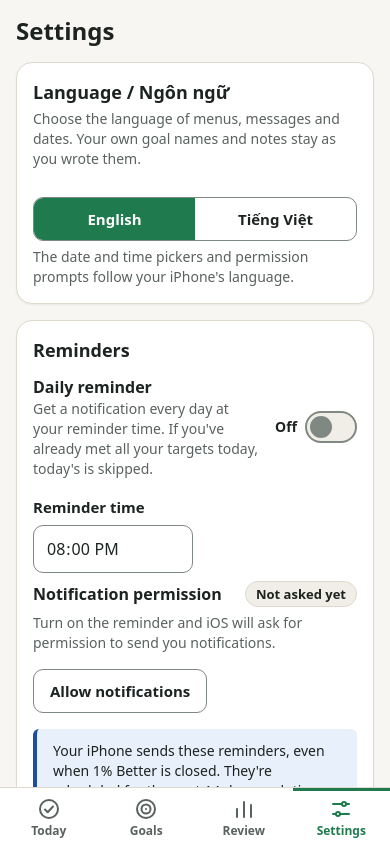
Scenario: Reminders card on iOS with scheduled notifications (M15-AC5) › the Allow button asks once; the adapter cache is refreshed on mount
The width and height of the screenshot is (390, 844).
Expected: the heading "Settings" is shown, [16,16,114,46]
Click the button "Allow notifications": coordinates (120, 691) [33,669,207,713]
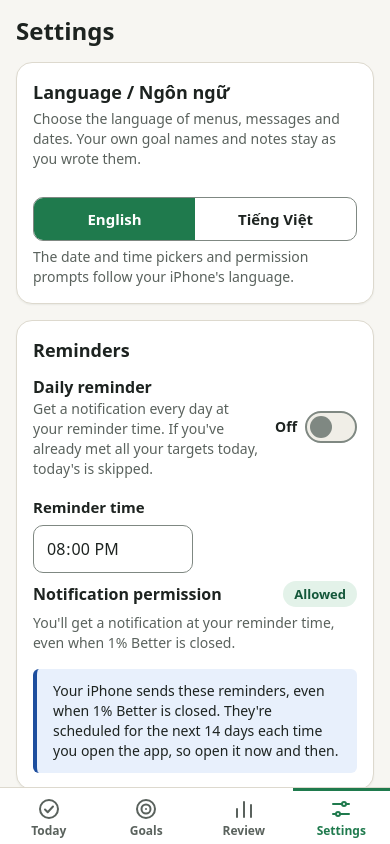
Expected: the button "Allow notifications" is gone
